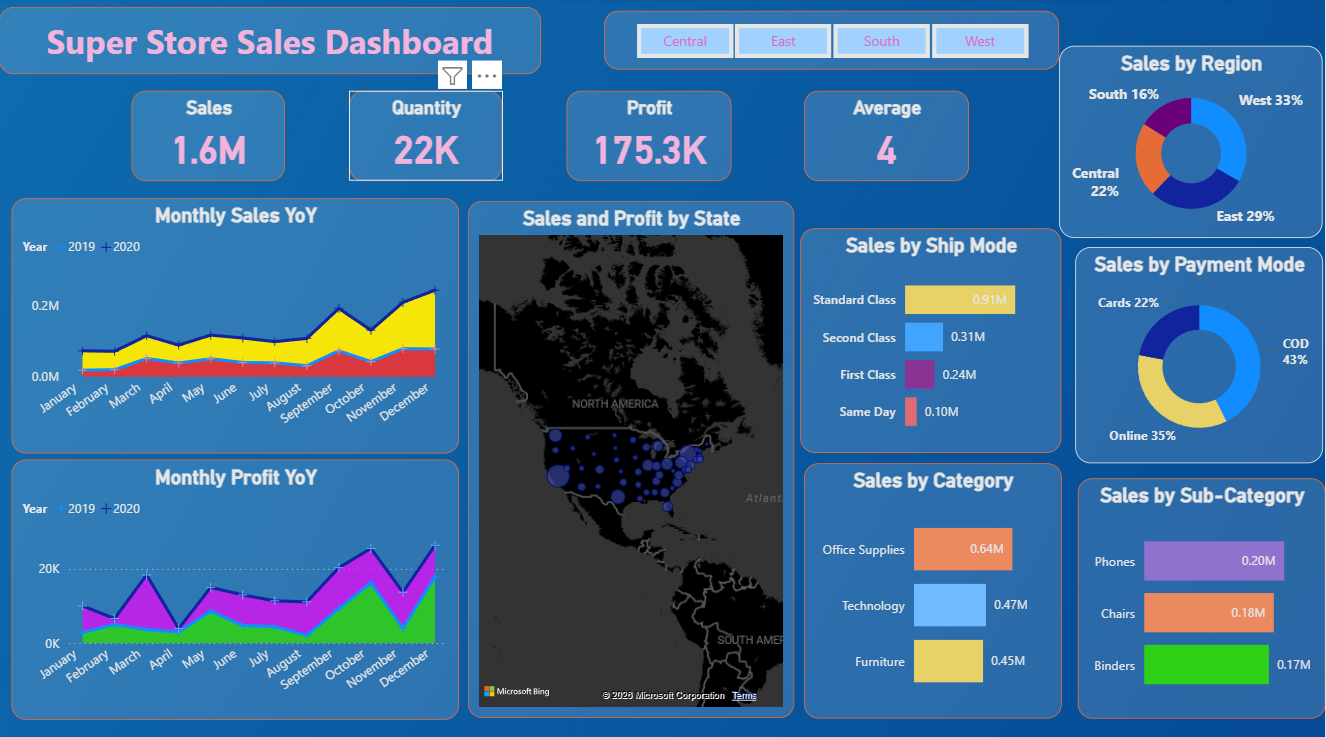

The dashboard page shown, as its layout file describes it:
{"tool":"powerbi","page":{"name":"Page 1","canvas":[1280,720],"ordinal":0},"visuals":[{"type":"clusteredBarChart","title":" Sales by Category","fields":{"Category":["SuperStore_Sales_Dataset.Category"],"Y":["Sum(SuperStore_Sales_Dataset.Sales)"]},"box":[776.9,450,248.5,246.1],"z":0},{"type":"clusteredBarChart","title":" Sales by Sub-Category","fields":{"Category":["SuperStore_Sales_Dataset.Sub-Category"],"Y":["Sum(SuperStore_Sales_Dataset.Sales)"]},"box":[1041.2,464.5,238.9,231.6],"z":1000},{"type":"clusteredBarChart","title":" Sales by Ship Mode","fields":{"Category":["SuperStore_Sales_Dataset.Ship Mode"],"Y":["Sum(SuperStore_Sales_Dataset.Sales)"]},"box":[773.3,223.2,252.1,217.2],"z":2000},{"type":"stackedAreaChart","title":" Monthly Sales YoY","fields":{"Category":["SuperStore_Sales_Dataset.Order Date.Variation.Date Hierarchy.Month","SuperStore_Sales_Dataset.Order Date.Variation.Date Hierarchy.Day"],"Y":["Sum(SuperStore_Sales_Dataset.Sales)"],"Series":["SuperStore_Sales_Dataset.Order Date.Variation.Date Hierarchy.Year"]},"box":[12.1,194.2,431.9,246.1],"z":3000},{"type":"stackedAreaChart","title":" Monthly Profit YoY","fields":{"Category":["SuperStore_Sales_Dataset.Order Date.Variation.Date Hierarchy.Month"],"Series":["SuperStore_Sales_Dataset.Order Date.Variation.Date Hierarchy.Year"],"Y":["Sum(SuperStore_Sales_Dataset.Profit)"]},"box":[12.1,446.4,431.9,250.9],"z":4000},{"type":"map","title":"Sales and Profit by State","fields":{"Category":["SuperStore_Sales_Dataset.State"],"Size":["Sum(SuperStore_Sales_Dataset.Sales)"]},"box":[452.4,196.6,314.9,499.5],"z":5000},{"type":"donutChart","title":"Sales by Payment Mode","fields":{"Y":["Sum(SuperStore_Sales_Dataset.Sales)"],"Category":["SuperStore_Sales_Dataset.Payment Mode"]},"box":[1038.7,241.3,238.9,208.7],"z":6000},{"type":"textbox","box":[0,9.7,523.6,65.1],"z":7000},{"type":"slicer","fields":{"Values":["SuperStore_Sales_Dataset.Region"]},"box":[583.9,13.3,439.1,56.7],"z":8000},{"type":"card","title":"Sales","fields":{"Values":["Sum(SuperStore_Sales_Dataset.Sales)"]},"box":[127.9,90.5,148.4,86.9],"z":9000},{"type":"card","title":"Quantity","fields":{"Values":["Sum(SuperStore_Sales_Dataset.Quantity)"]},"box":[337.8,90.5,148.4,86.9],"z":10000},{"type":"card","title":"Profit","fields":{"Values":["Sum(SuperStore_Sales_Dataset.Profit)"]},"box":[547.7,90.5,159.3,86.9],"z":11000},{"type":"card","title":"Average","fields":{"Values":["Avg(SuperStore_Sales_Dataset.AvgDelivery)"]},"box":[776.9,90.5,159.3,86.9],"z":12000},{"type":"donutChart","title":"Sales by Region","fields":{"Y":["Sum(SuperStore_Sales_Dataset.Sales)"],"Category":["SuperStore_Sales_Dataset.Region"]},"box":[1023.1,47.1,254.6,185.8],"z":13000}]}

Visuals, with their boxes in screenshot pixels (x1, y1, x2, y2), scaled from the page's 1280x720 canvas onto the 1326x737 screenshot:
" Sales by Category" clusteredBarChart: region(805, 461, 1062, 713)
" Sales by Sub-Category" clusteredBarChart: region(1079, 475, 1325, 713)
" Sales by Ship Mode" clusteredBarChart: region(801, 228, 1062, 451)
" Monthly Sales YoY" stackedAreaChart: region(13, 199, 460, 451)
" Monthly Profit YoY" stackedAreaChart: region(13, 457, 460, 714)
"Sales and Profit by State" map: region(469, 201, 795, 713)
"Sales by Payment Mode" donutChart: region(1076, 247, 1324, 461)
textbox: region(0, 10, 542, 77)
slicer - SuperStore_Sales_Dataset.Region: region(605, 14, 1060, 72)
"Sales" card: region(132, 93, 286, 182)
"Quantity" card: region(350, 93, 504, 182)
"Profit" card: region(567, 93, 732, 182)
"Average" card: region(805, 93, 970, 182)
"Sales by Region" donutChart: region(1060, 48, 1324, 238)
